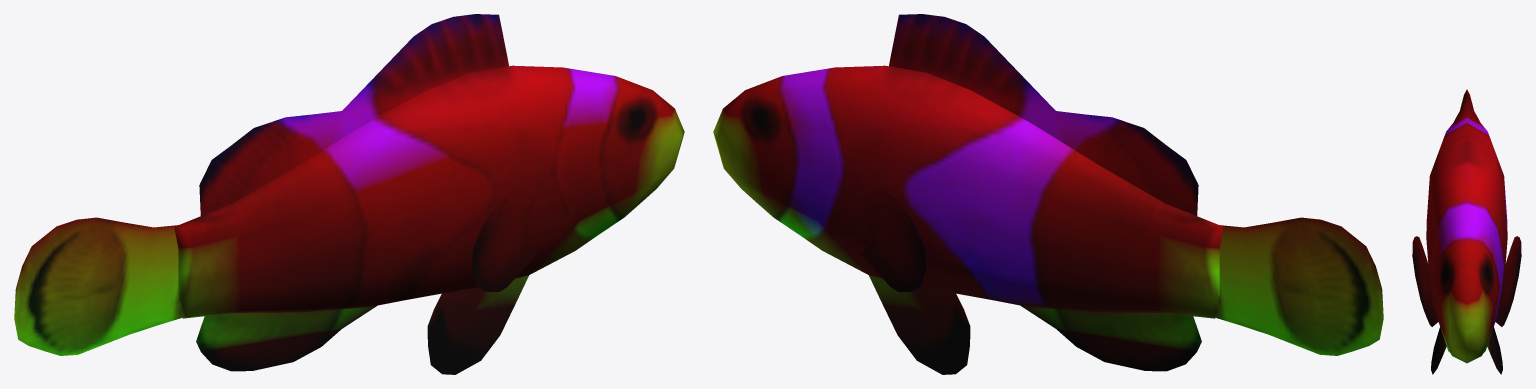
The model's file is clownfish.glb.
3 views of the same model, side by side, from view 1: azimuth 30°, elevation 25°; view 2: azimuth 150°, elevation 25°; view 3: azimuth 270°, elevation 25° (orthographic). The views are drawn at different scales.
Visible parts, largest first — view 1: Clownfish; view 2: Clownfish; view 3: Clownfish.
Part boxes in pixels (bbox=[...]): Clownfish: bbox=[14, 14, 684, 374]; Clownfish: bbox=[713, 14, 1383, 374]; Clownfish: bbox=[1412, 89, 1521, 374].
Bounding box in the file's own units: 1 × 0.4822 × 0.1625.
1 material, 1 textured.
